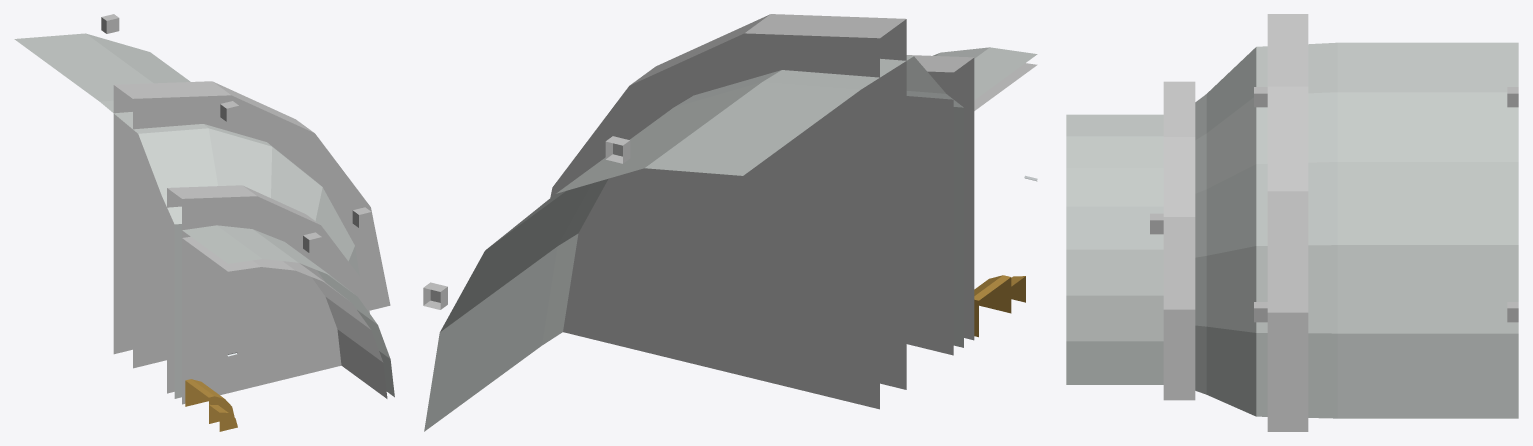
Rendered from cell_89.obj.
3 views of the same model, side by side, from view 1: azimuth 30°, elevation 25°; view 2: azimuth 150°, elevation 25°; view 3: azimuth 270°, elevation 25° (orthographic). The views are drawn at different scales.
Bounding box in the file's own units: 0.695 × 0.695 × 1.
